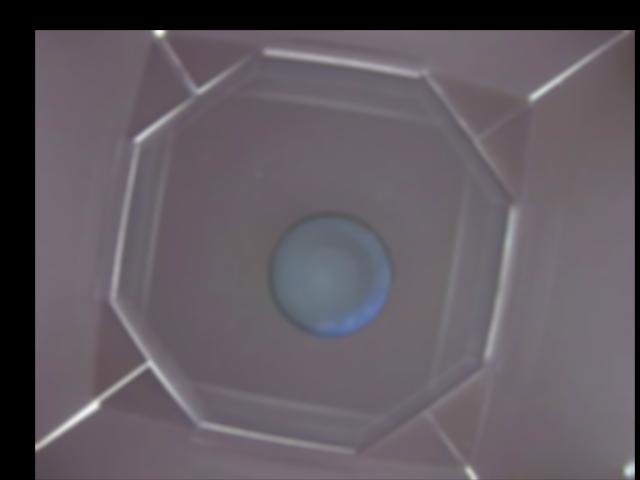Bottle: (266, 211, 392, 338)
